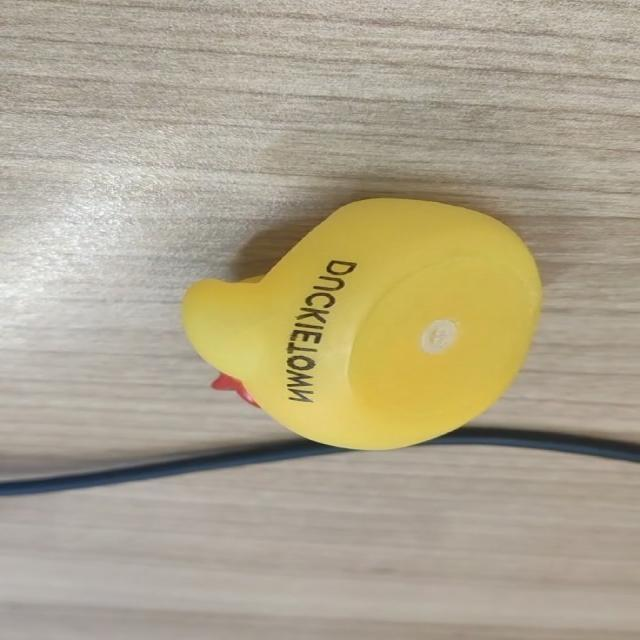rubber-duck: (182, 197, 539, 447)
